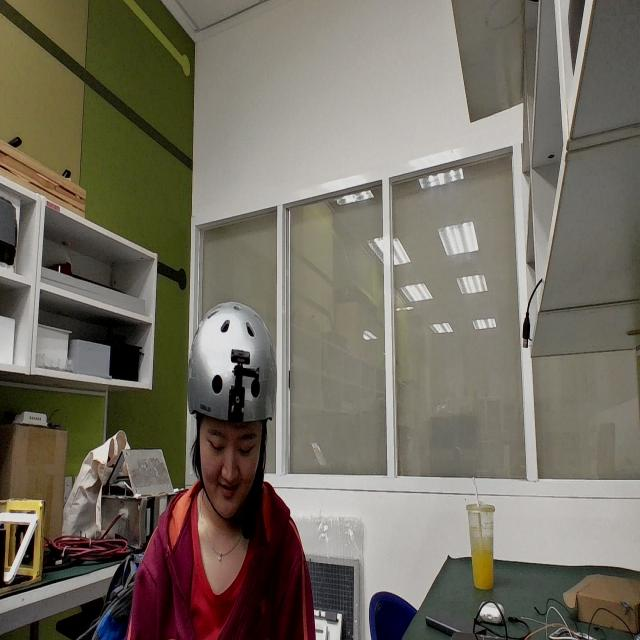With Helmet: (173, 276, 311, 547)
